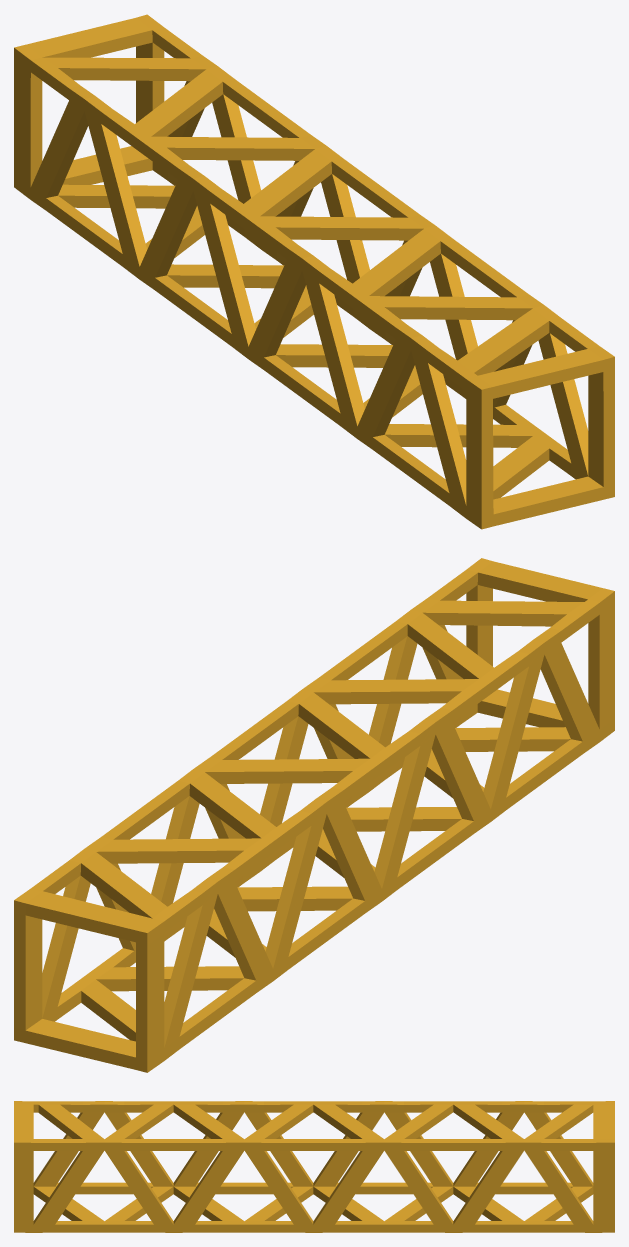
3 views of the same model, one above another, from view 1: azimuth 30°, elevation 25°; view 2: azimuth 150°, elevation 25°; view 3: azimuth 270°, elevation 25° (orthographic). The views are drawn at different scales.
Visible parts, largest first — view 1: E-2; view 2: E-2; view 3: E-2.
Part boxes in pixels (x1=…): E-2: x1=14, y1=14, x2=614, y2=529; E-2: x1=14, y1=558, x2=614, y2=1072; E-2: x1=14, y1=1101, x2=614, y2=1232.
Size of the model in its own units: 424 by 427 by 2574.
